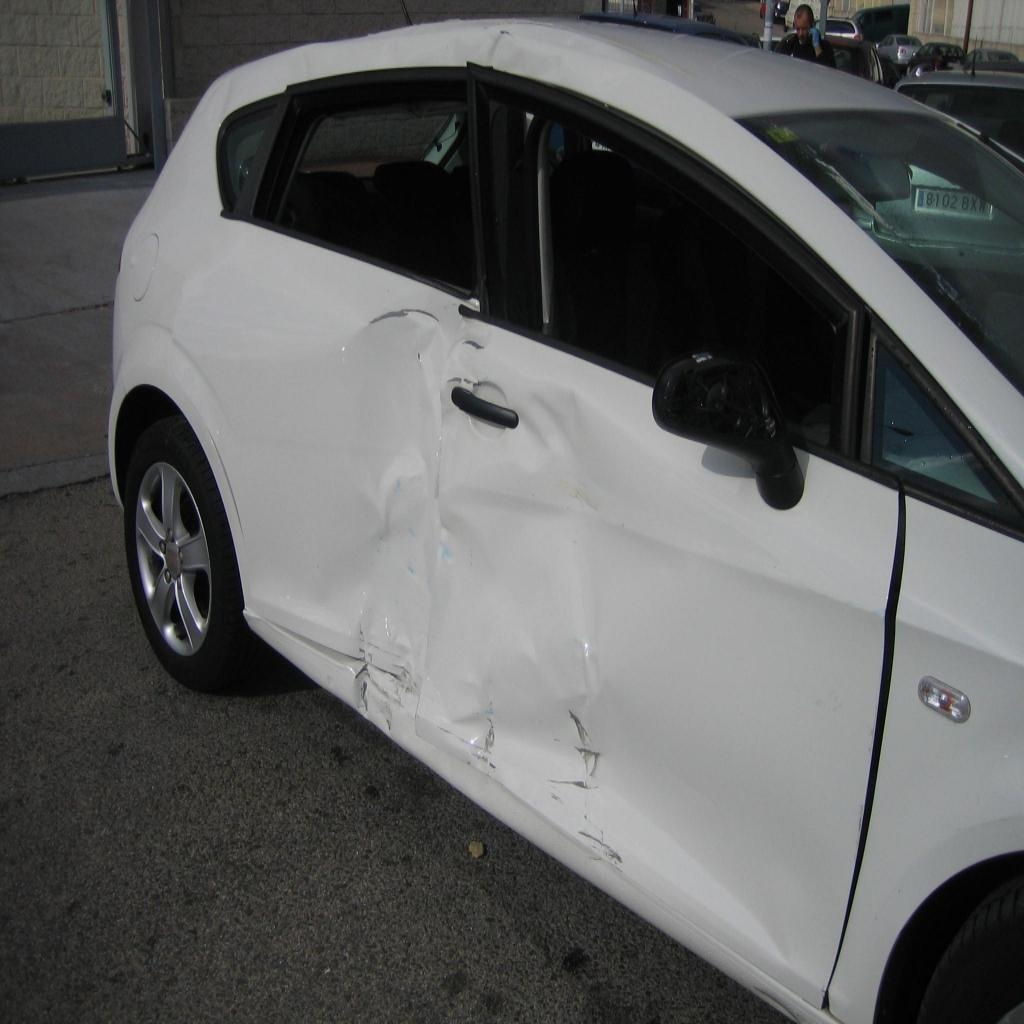Dent: (331, 304, 629, 763)
Scratch: (545, 709, 635, 866)
